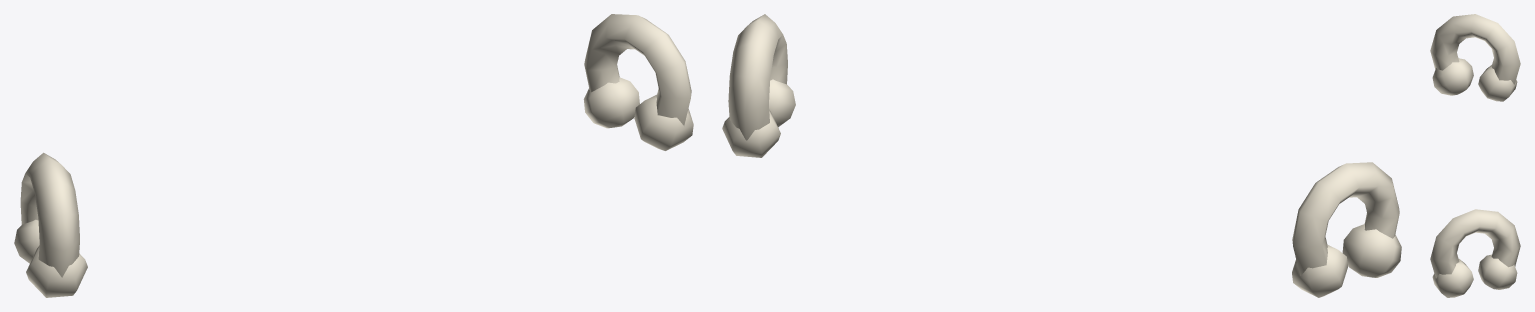
Rendered from Earring_6.fbx.
The picture shows the model from 3 angles, left to right: view 1: azimuth 30°, elevation 25°; view 2: azimuth 150°, elevation 25°; view 3: azimuth 270°, elevation 25°; orthographic projection. The views are drawn at different scales.
Parts seen in each view (by area): view 1: Earring_6; view 2: Earring_6; view 3: Earring_6.
Part boxes in pixels (bbox=[...]): Earring_6: bbox=[14, 14, 693, 297]; Earring_6: bbox=[722, 14, 1401, 297]; Earring_6: bbox=[1430, 14, 1520, 297].
Size of the model in its own units: 55.32 by 9.76 by 9.67.
